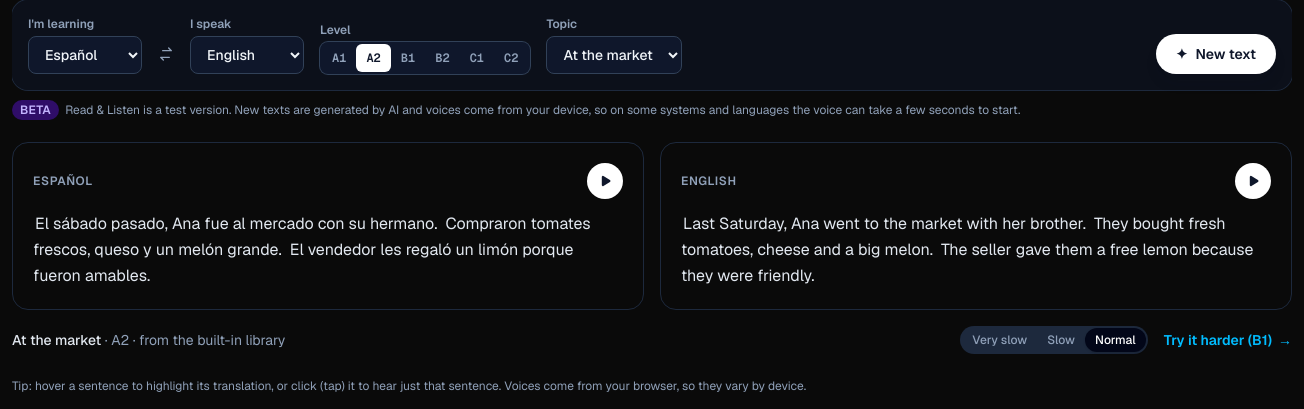
it: Read & Listen page › says so when the device has no voice for a language
Step 1. Select "Français" in the dropdown labelled "I'm learning" → (85, 55), box top-left (28, 36), bottom-right (142, 74)
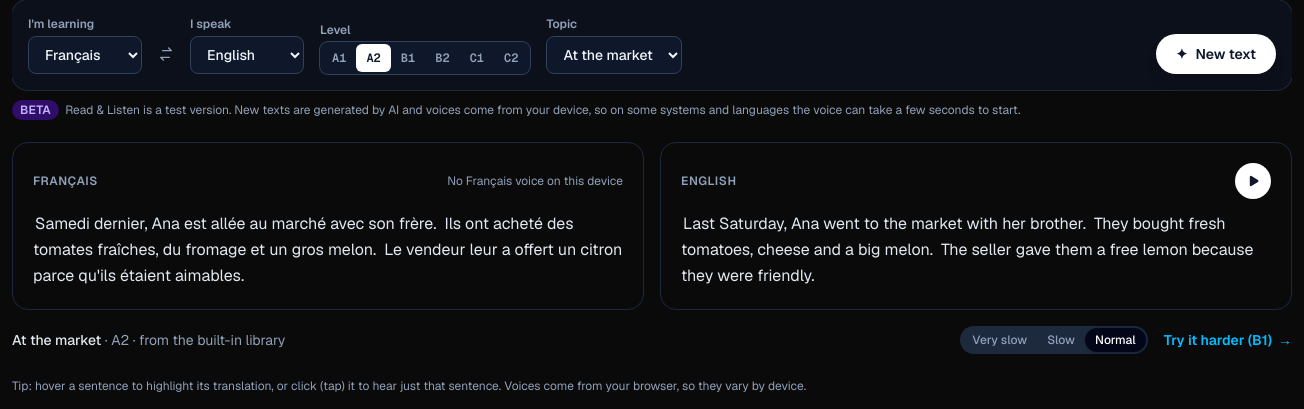
Result: the element "Français" is shown at top-left (12, 142), bottom-right (644, 310)
Result: the text "No Français voice on this device" is shown at top-left (447, 173), bottom-right (623, 189)
